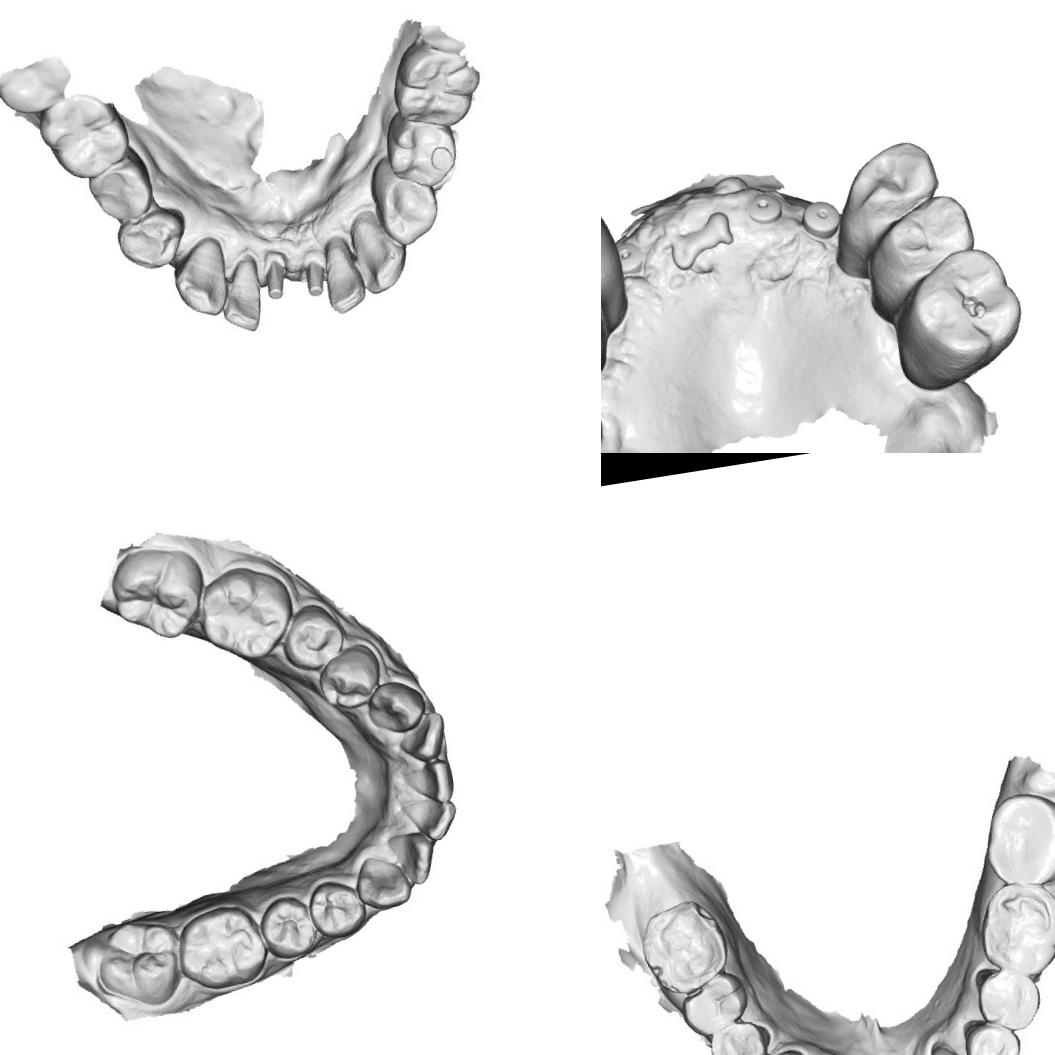abutment: (262, 259, 290, 303), (300, 258, 327, 299)
canine: (168, 233, 234, 322), (348, 204, 411, 297), (364, 674, 432, 740), (350, 850, 414, 919), (924, 1035, 992, 1055)
implant: (798, 194, 845, 241), (742, 183, 788, 229), (614, 234, 650, 274)
incisor: (385, 826, 448, 890), (216, 259, 266, 336), (402, 787, 466, 847), (321, 235, 367, 318), (391, 707, 454, 765), (404, 756, 463, 808)
molar: (897, 240, 1031, 380), (630, 896, 741, 999), (384, 36, 488, 136), (190, 564, 294, 660), (34, 84, 132, 185), (971, 873, 1055, 980), (92, 911, 188, 1004), (106, 546, 203, 638), (170, 901, 272, 986), (976, 784, 1055, 891)
premolar: (868, 190, 978, 282), (840, 131, 944, 224), (381, 110, 461, 194), (371, 161, 446, 249), (674, 968, 756, 1041), (972, 961, 1048, 1037), (111, 203, 191, 274), (84, 153, 159, 228), (319, 647, 382, 710), (285, 602, 343, 667), (260, 894, 314, 957), (308, 876, 363, 935), (958, 1011, 1028, 1055), (703, 1015, 777, 1055)
